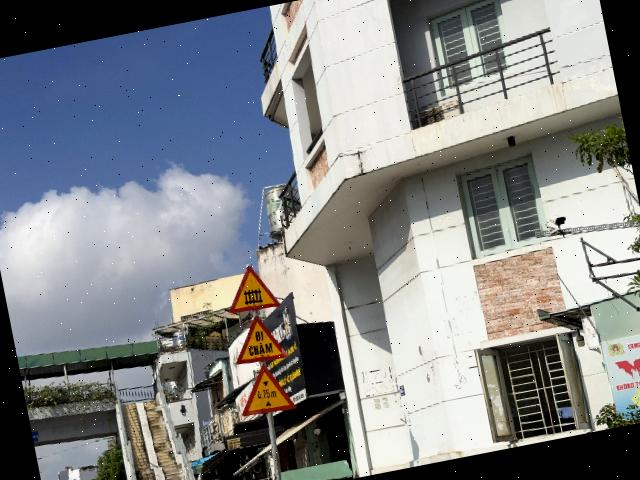chieu-cao-tinh-khong-thuc-te: (233, 358, 297, 418)
di-cham: (228, 310, 288, 366)
noi-giao-nhau-voi-duong-sat-co-rao-chan: (220, 260, 280, 316)
